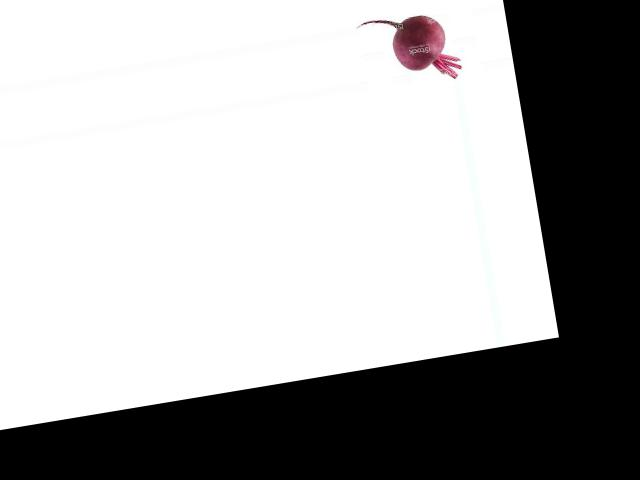beet: (355, 7, 463, 93)
